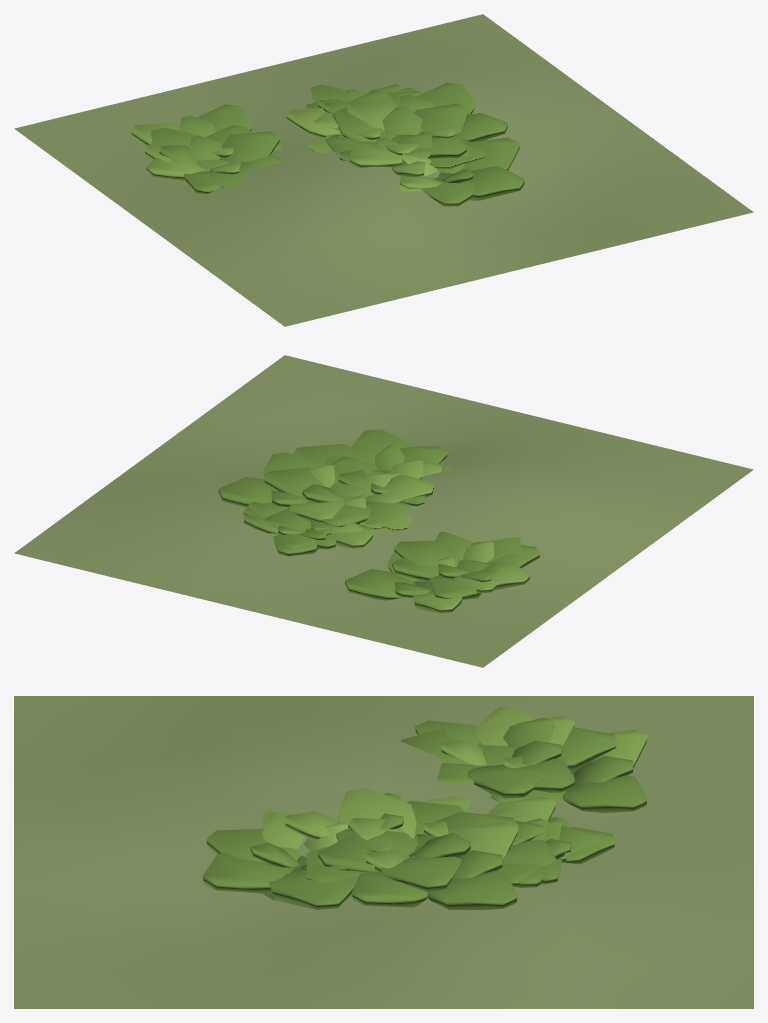
Rendered from master_grass_lush_10.glb.
3 renders of one model, top to bottom at view 1: azimuth 30°, elevation 25°; view 2: azimuth 150°, elevation 25°; view 3: azimuth 270°, elevation 25°, orthographic. The views are drawn at different scales.
Parts seen in each view (by area): view 1: master_grass_lush_10; view 2: master_grass_lush_10; view 3: master_grass_lush_10.
Part boxes in pixels (x1,y1,x2,y2): master_grass_lush_10: [14, 14, 753, 326]; master_grass_lush_10: [14, 355, 753, 667]; master_grass_lush_10: [14, 696, 753, 1008].
Bounding box in the file's own units: 1.35 × 0.1062 × 1.35.
